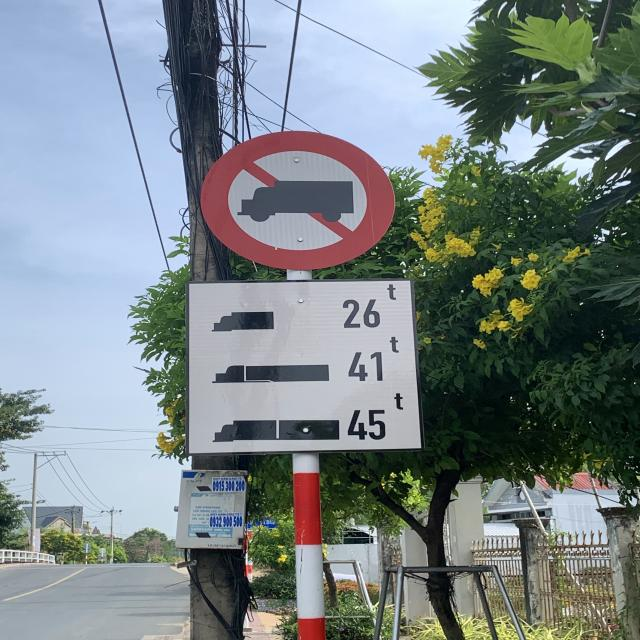Cam_Xe_Tai: (202, 128, 396, 271)
